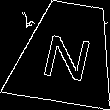N_N: (37, 24, 96, 81)
